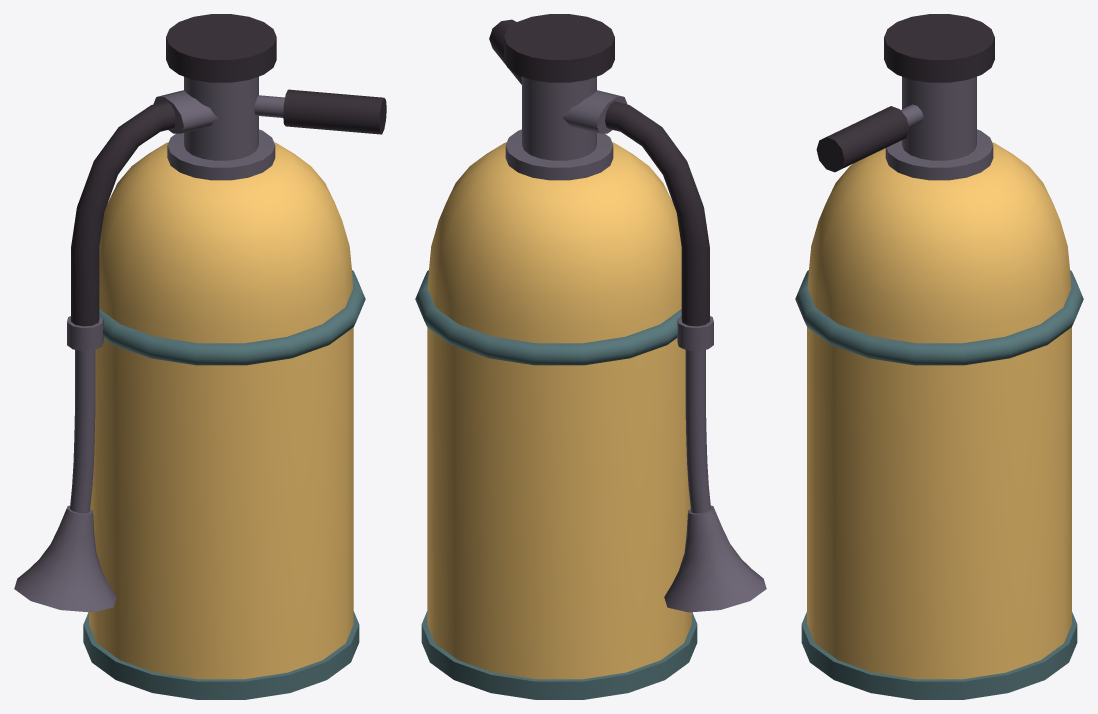
Rendered from EM_075_fire_extinguisher.glb.
3 views of the same model, side by side, from view 1: azimuth 30°, elevation 25°; view 2: azimuth 150°, elevation 25°; view 3: azimuth 270°, elevation 25° (orthographic).
Parts seen in each view (by area): view 1: fire_extinguisher, accesories; view 2: fire_extinguisher, accesories; view 3: fire_extinguisher, accesories.
Boxes of the visible parts, bbox=[...] form: fire_extinguisher: bbox=[83, 14, 359, 699]; accesories: bbox=[14, 89, 386, 612]; fire_extinguisher: bbox=[421, 14, 697, 699]; accesories: bbox=[415, 19, 766, 612]; fire_extinguisher: bbox=[801, 14, 1077, 699]; accesories: bbox=[795, 104, 1083, 365].
Bounding box in the file's own units: 0.7147 × 1.28 × 0.5546.
